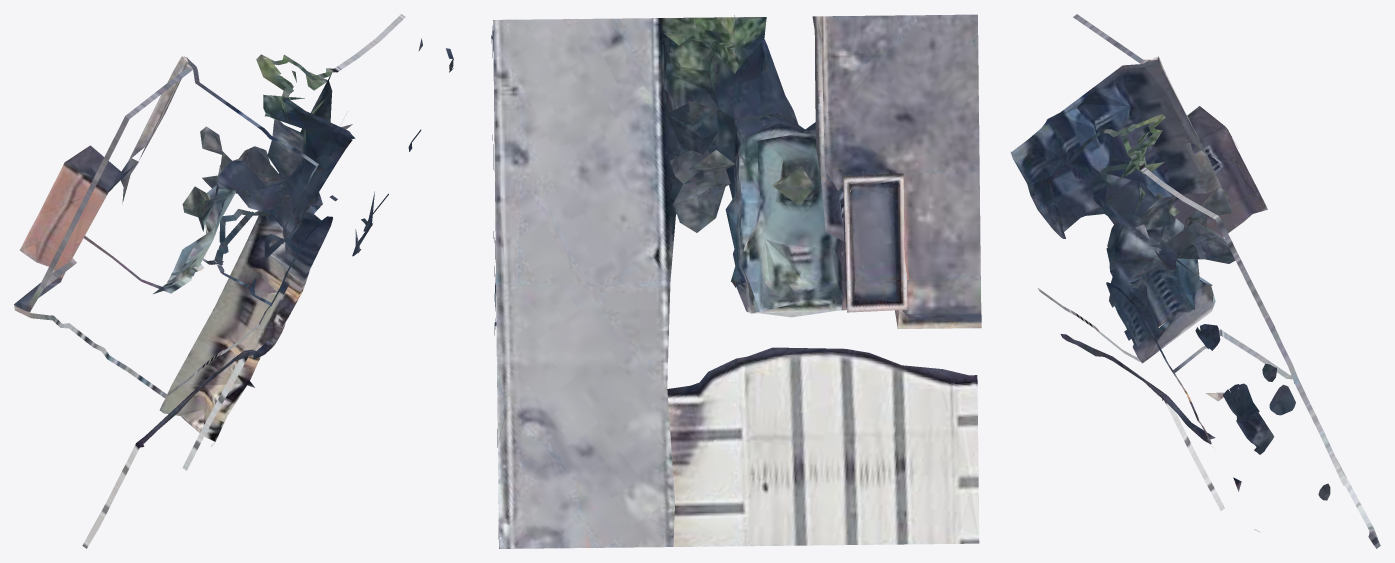
3 views of the same model, side by side, from view 1: azimuth 30°, elevation 25°; view 2: azimuth 150°, elevation 25°; view 3: azimuth 270°, elevation 25° (orthographic). The views are drawn at different scales.
Bounding box in the file's own units: 41.59 × 40.82 × 31.25.
2 materials, 2 textured.
